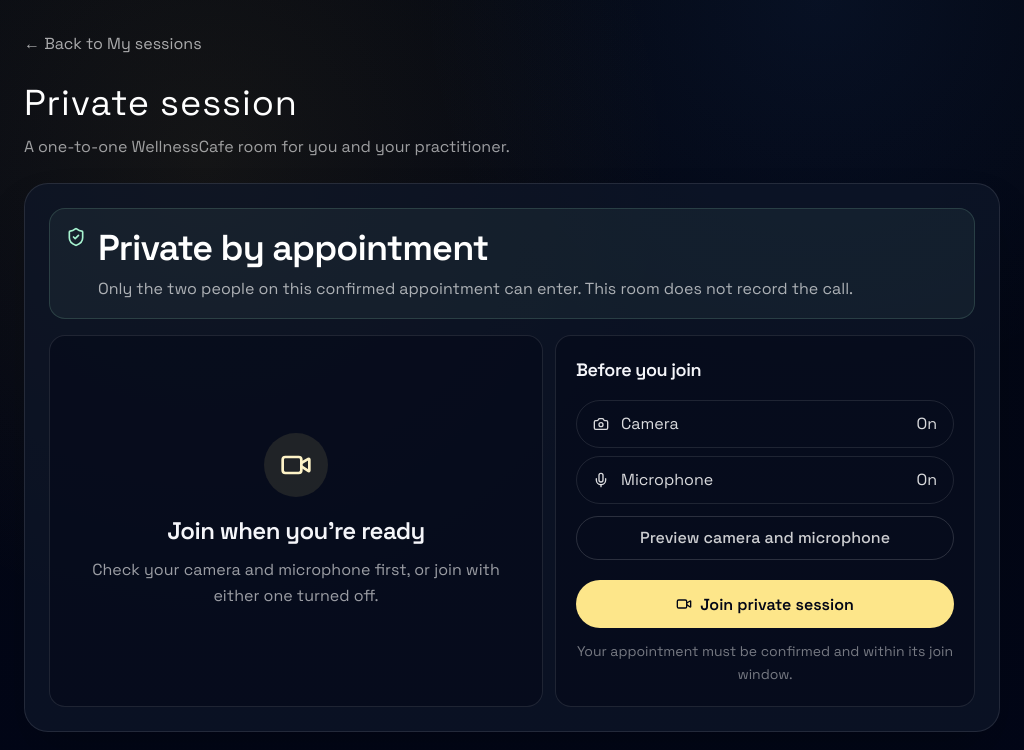
Test case: Private session room › does not claim an appointment is still scheduled when the appointment is missing
Click the button "Join private session": [765, 604] box [576,580,954,628]
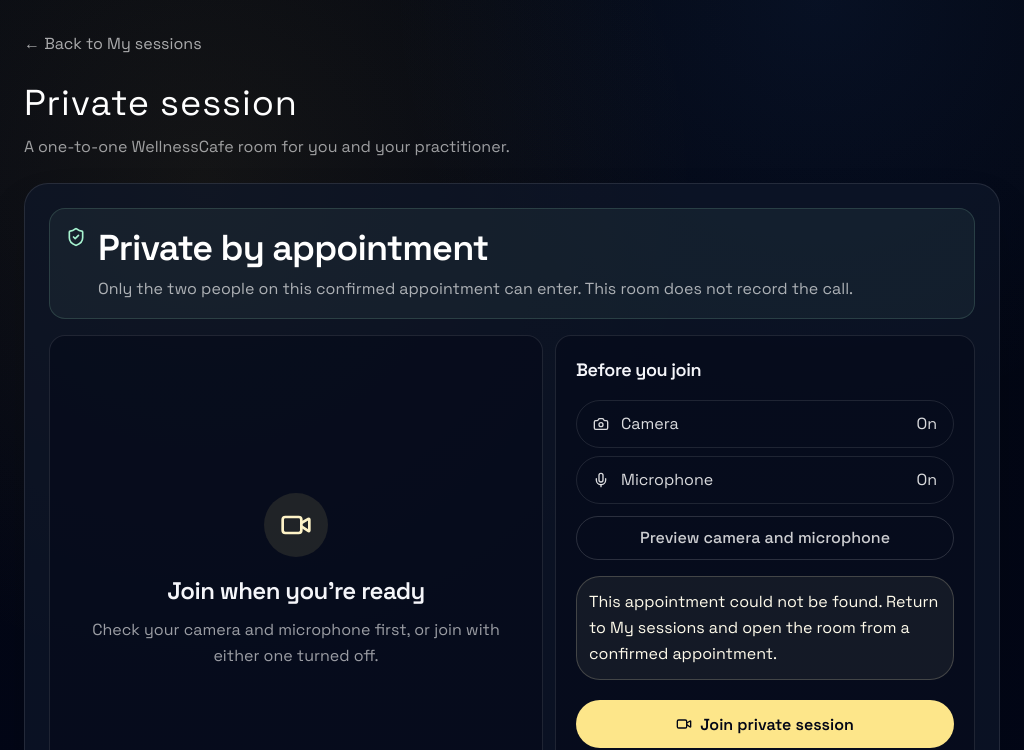
Expected: the message does not show "still scheduled", [576,576,954,680]
Expected: the message shows "appointment could not be found", [589,591,938,664]
